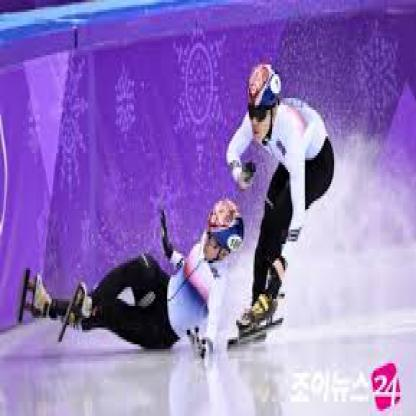Fall_Down: (29, 193, 246, 370)
